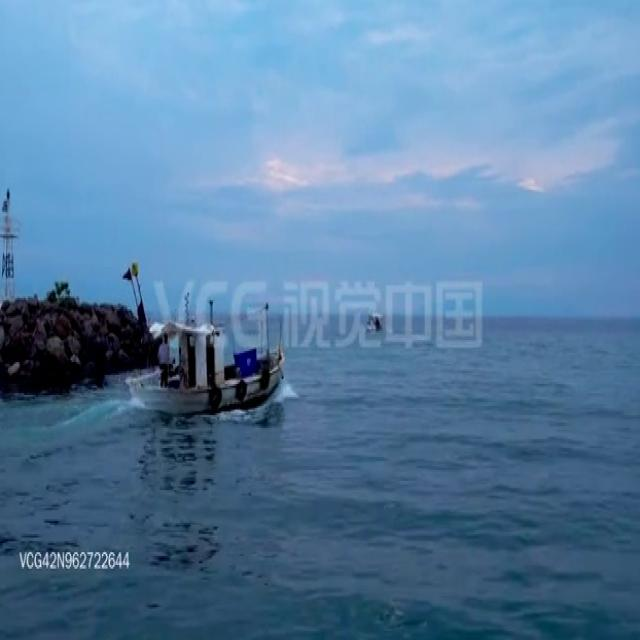houseboat: (120, 284, 287, 416), (365, 301, 383, 337)
